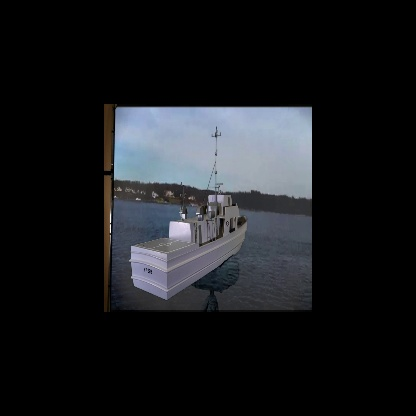YP689: (130, 128, 248, 301)
